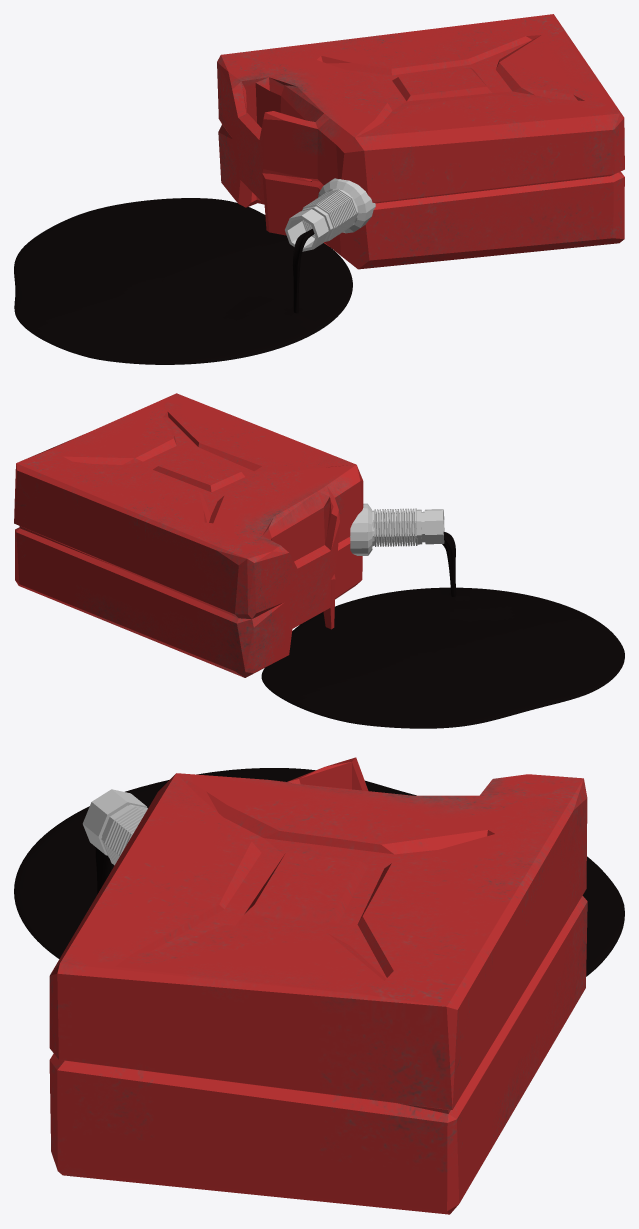
The model's file is Gasolina_final.fbx.
3 renders of one model, top to bottom at view 1: azimuth 30°, elevation 25°; view 2: azimuth 150°, elevation 25°; view 3: azimuth 270°, elevation 25°, orthographic. The views are drawn at different scales.
Visible parts, largest first — view 1: Gasolina, LIQUIDO.001; view 2: Gasolina, LIQUIDO.001; view 3: Gasolina, LIQUIDO.001.
Part boxes in pixels (x1=…): Gasolina: x1=217, y1=14, x2=624, y2=269; LIQUIDO.001: x1=14, y1=198, x2=352, y2=364; Gasolina: x1=14, y1=393, x2=444, y2=677; LIQUIDO.001: x1=261, y1=532, x2=624, y2=728; Gasolina: x1=49, y1=757, x2=587, y2=1214; LIQUIDO.001: x1=14, y1=768, x2=624, y2=976.
Bounding box in the file's own units: 97.8 × 24.38 × 55.02.
